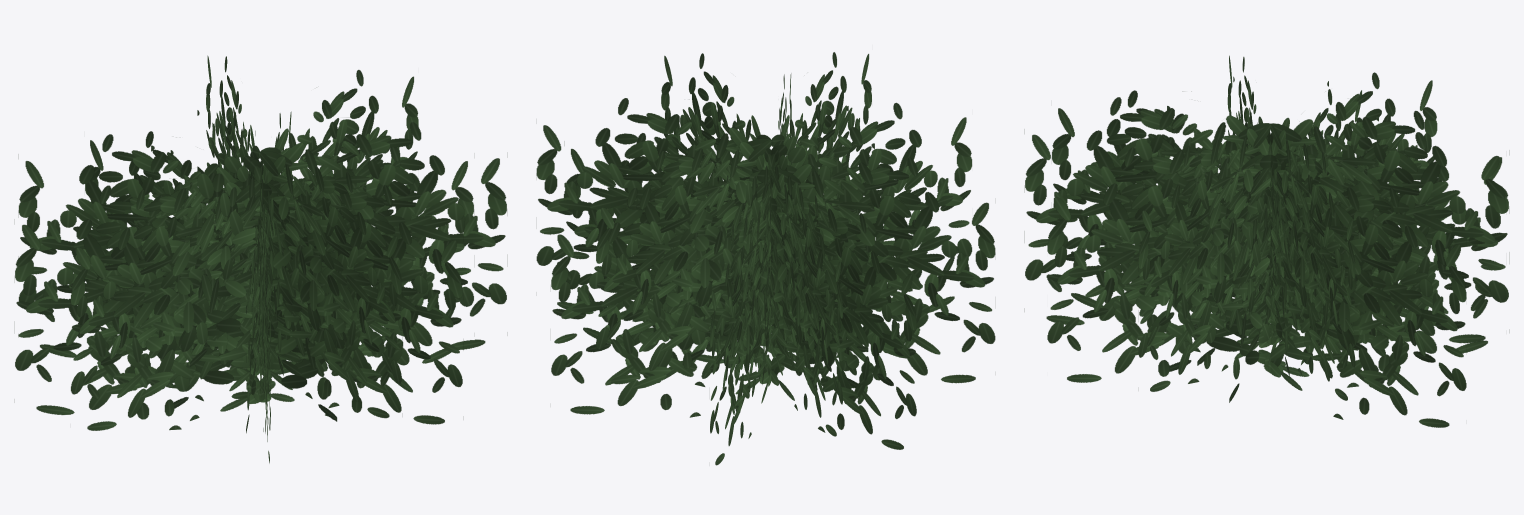
The model's file is shrub.glb.
The picture shows the model from 3 angles, left to right: view 1: azimuth 30°, elevation 25°; view 2: azimuth 150°, elevation 25°; view 3: azimuth 270°, elevation 25°; orthographic projection. The views are drawn at different scales.
Parts seen in each view (by area): view 1: Dense understory; view 2: Dense understory; view 3: Dense understory.
Part boxes in pixels (x1,y1,x2,y2): Dense understory: [14, 55, 507, 463]; Dense understory: [536, 52, 995, 465]; Dense understory: [1024, 55, 1509, 427].
Size of the model in its own units: 2.48 by 1.72 by 2.45.
1 material, 1 textured.
